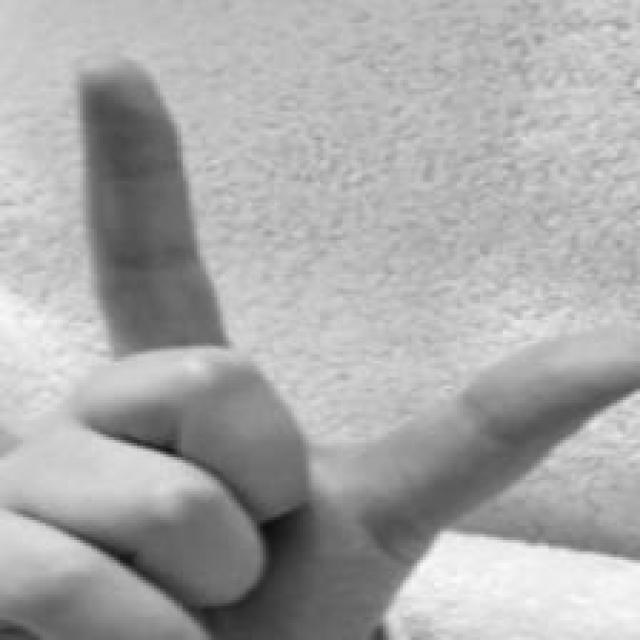L: (0, 49, 640, 640)
